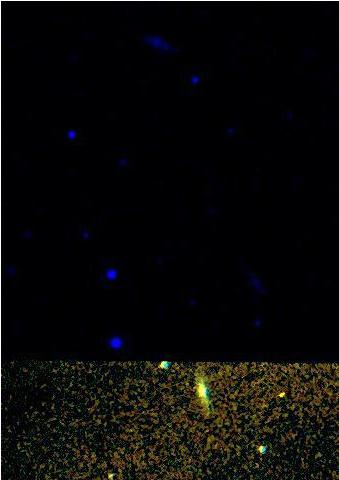star: (265, 380, 295, 410)
